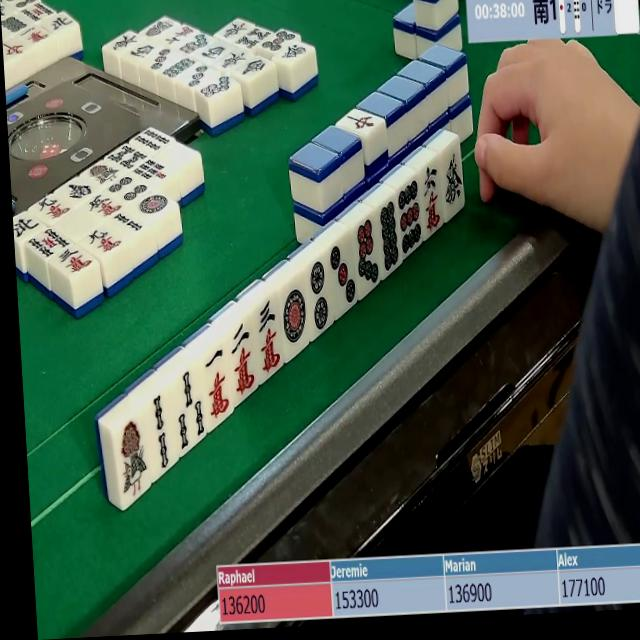1B: (110, 412, 154, 508)
1C: (196, 343, 235, 425)
1D: (277, 276, 313, 357)
2B: (146, 391, 181, 477)
2C: (226, 317, 262, 400)
2D: (304, 256, 334, 338)
3B: (172, 365, 213, 452)
3C: (254, 294, 287, 379), (51, 243, 99, 282)
3D: (323, 239, 359, 315)
6C: (416, 161, 448, 237)
7D: (352, 218, 384, 297)
8B: (103, 142, 149, 173)
8D: (373, 200, 404, 276), (162, 54, 199, 84)
9D: (394, 179, 426, 258)
GD: (439, 147, 464, 218)
RD: (344, 102, 379, 139)
